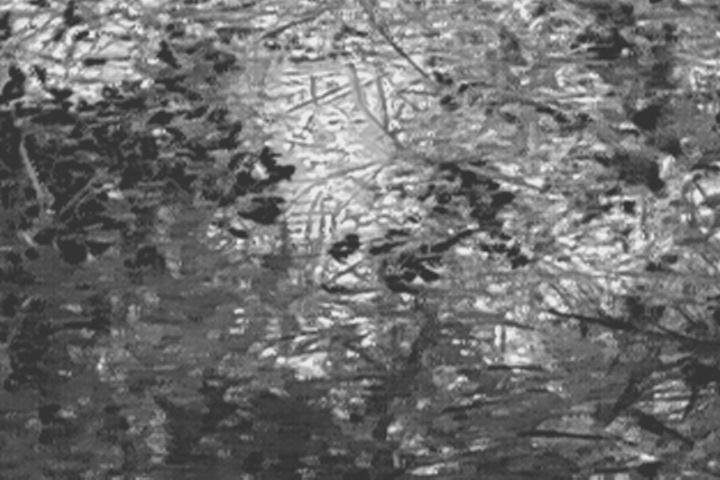landmine: (246, 33, 433, 232)
